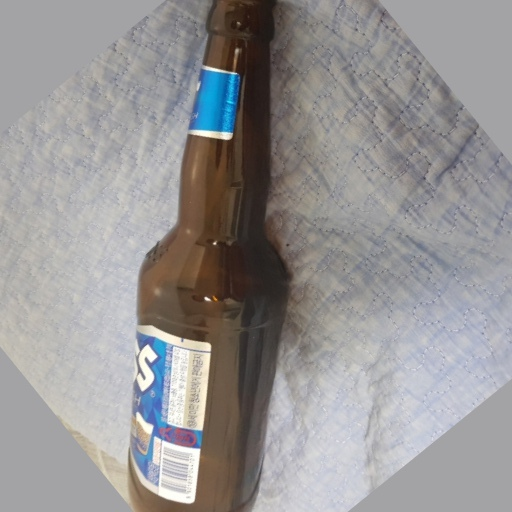Glass_1: (122, 2, 295, 509)
